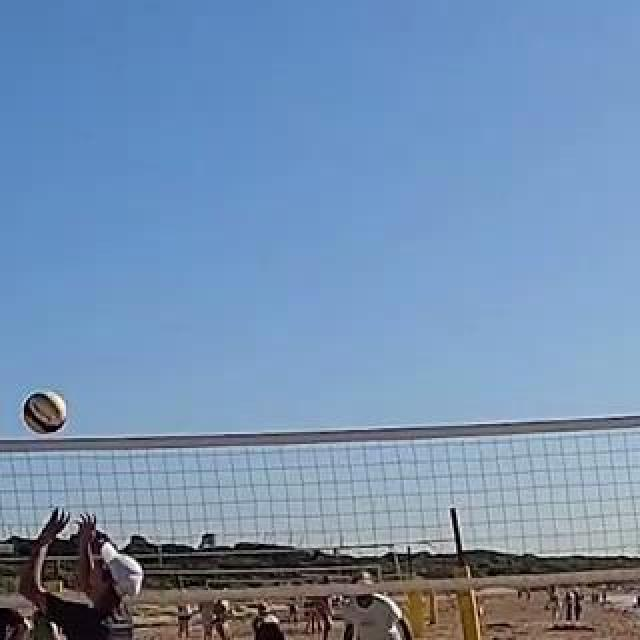volleyball: (23, 393, 65, 435)
